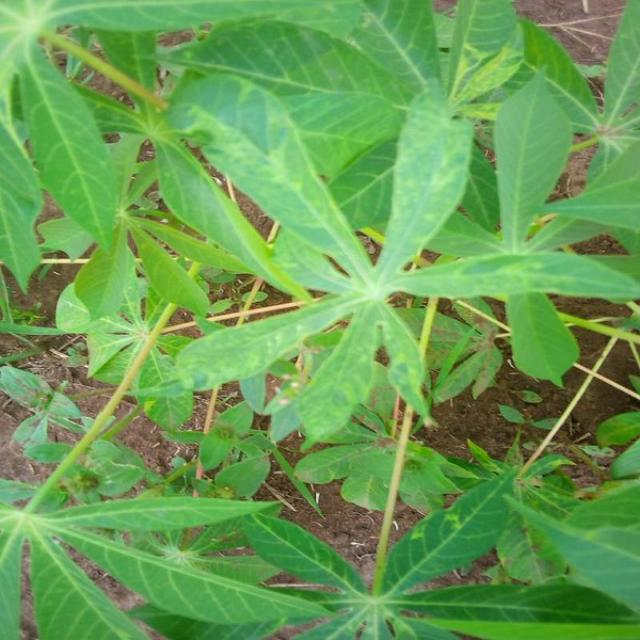Mosaico: (178, 73, 520, 367), (445, 33, 553, 154)
